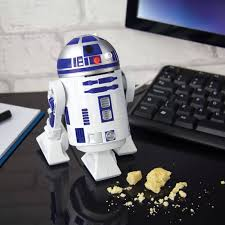r2d2: (36, 34, 137, 181)
